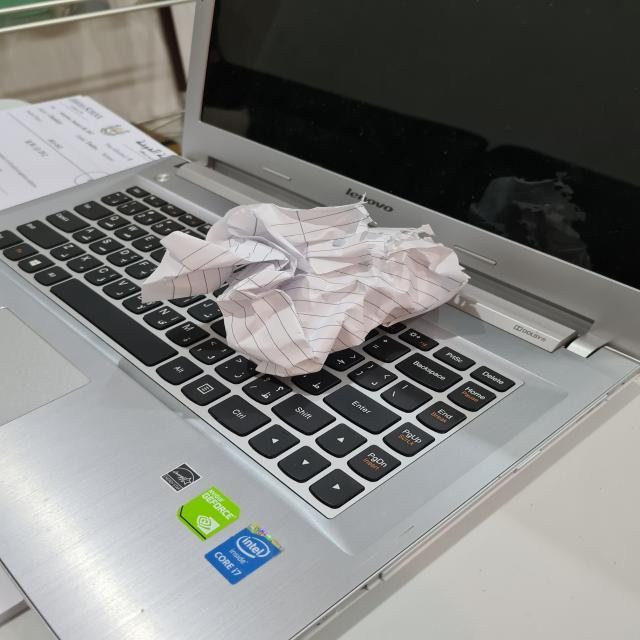Paper: (143, 201, 474, 372)
